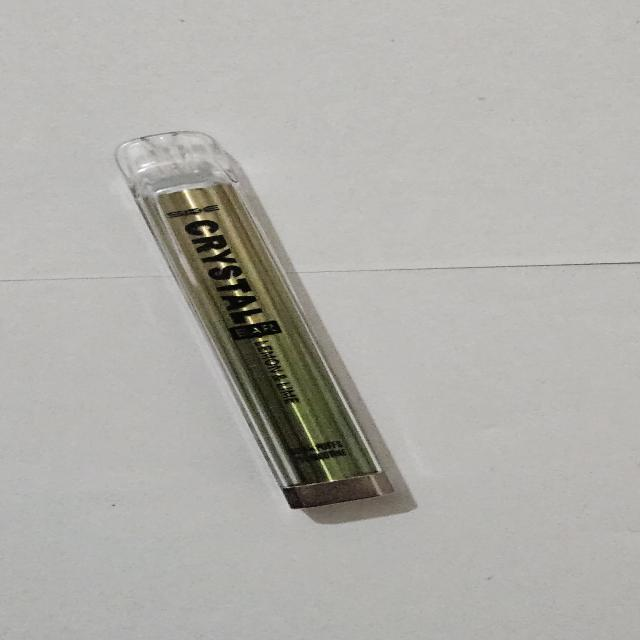Hazard: (112, 129, 417, 516)
